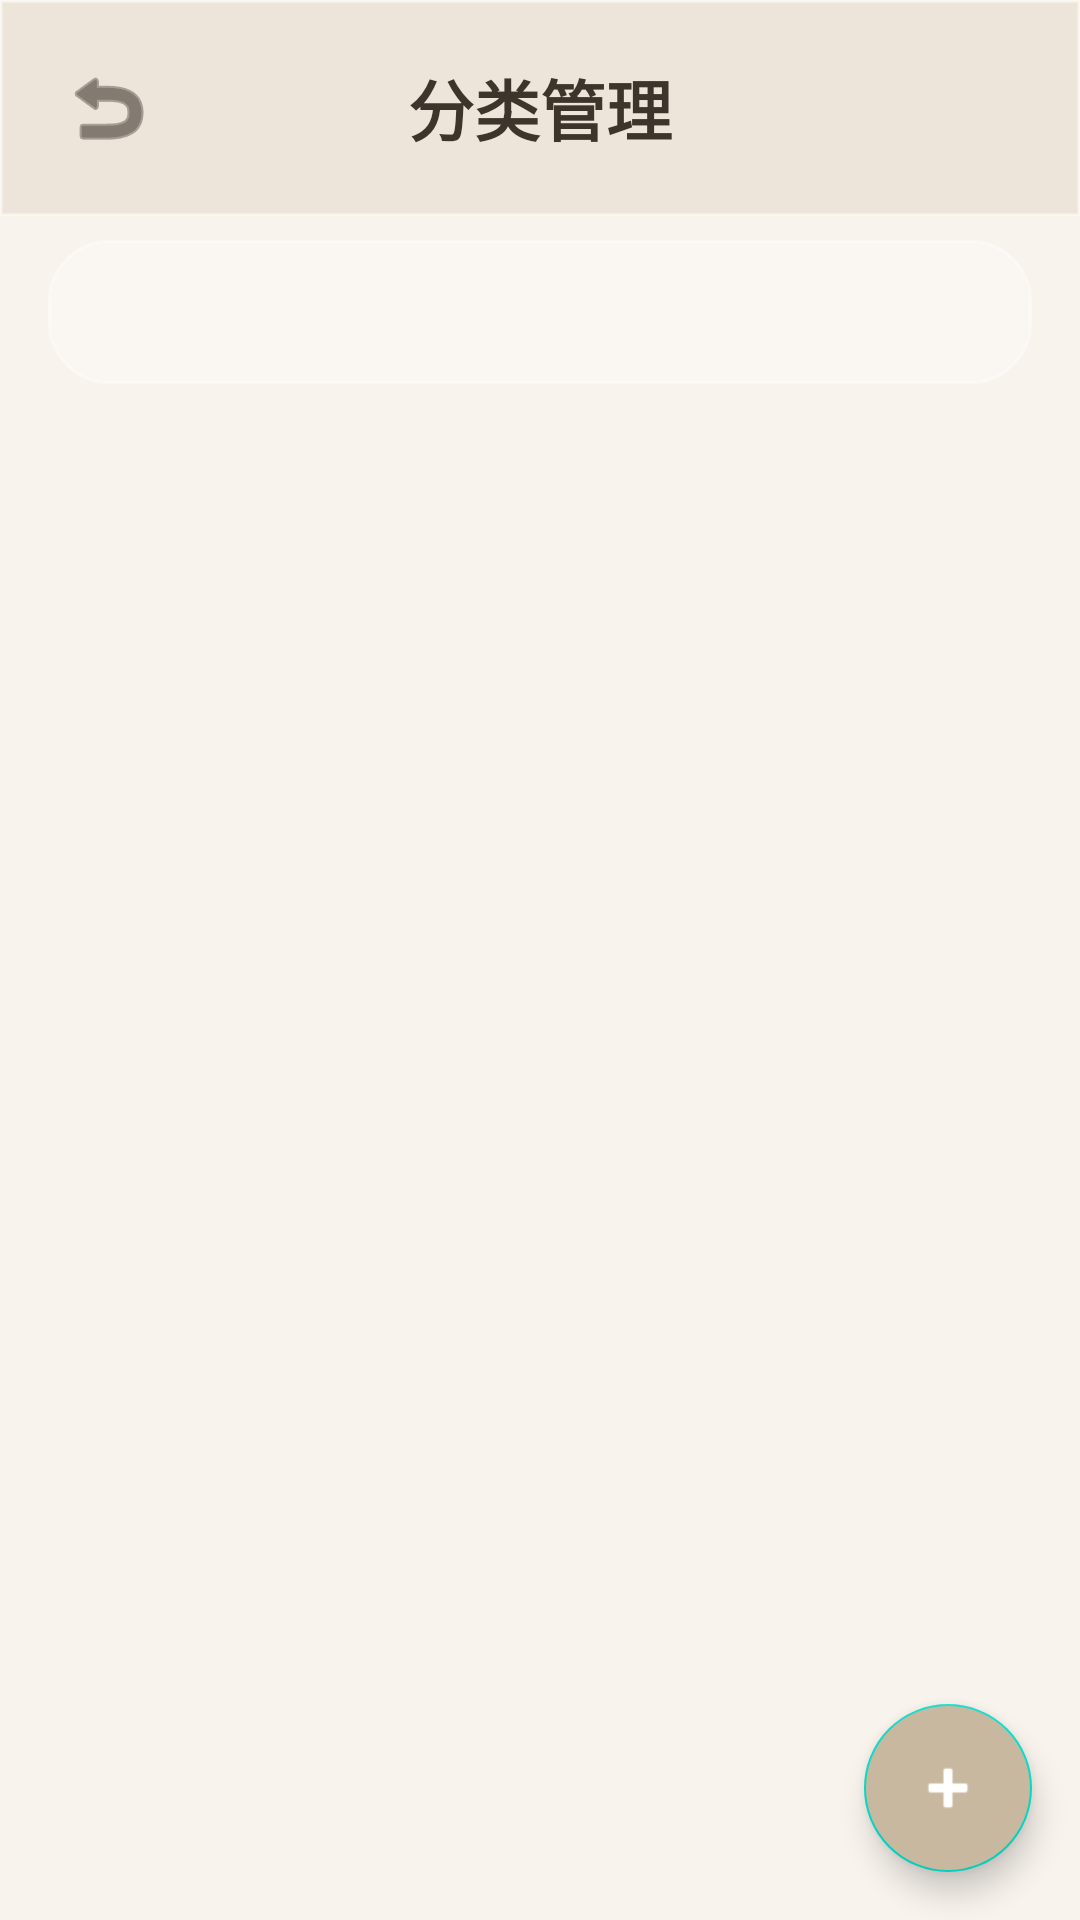

Point at icon controls on the screen. Image size 1080 × 1920, points as (x,y).
add: (948,1788)
revert: (109,108)
